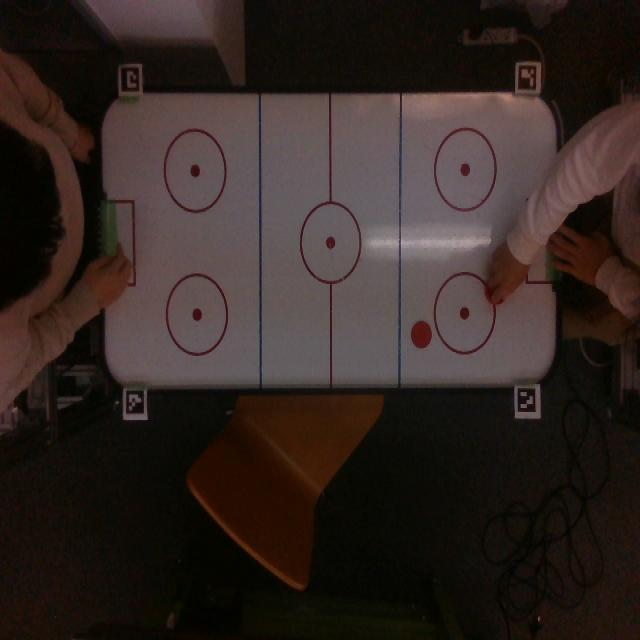puck: (411, 321, 432, 348)
